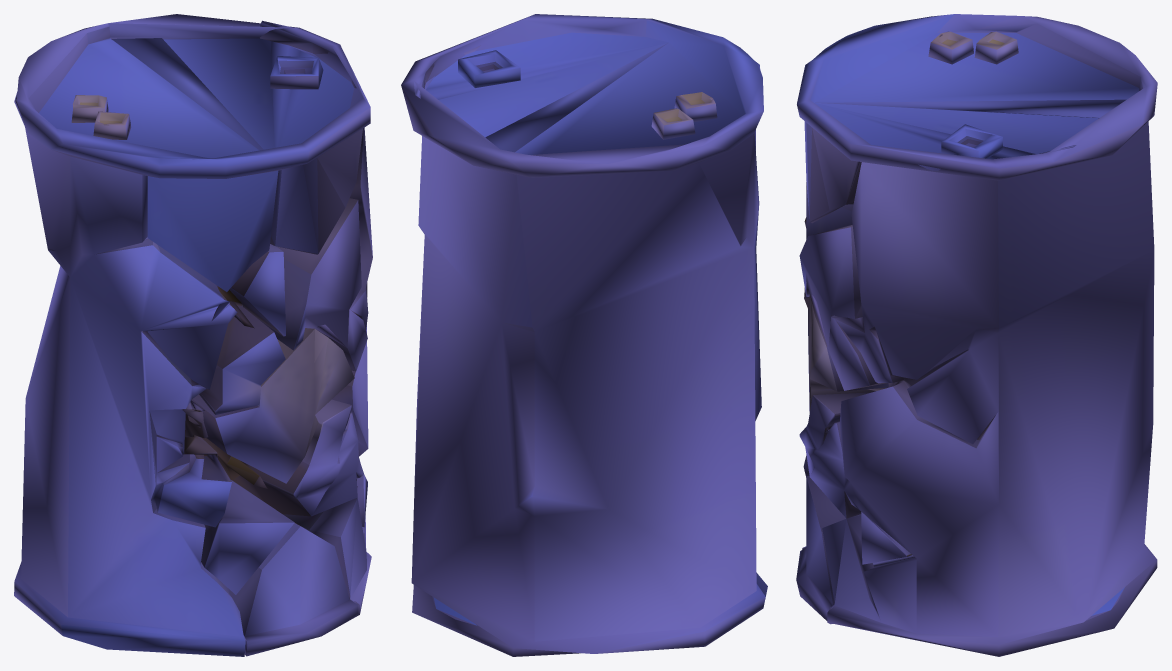
Rendered from model.progressive.glb.
3 views of the same model, side by side, from view 1: azimuth 30°, elevation 25°; view 2: azimuth 150°, elevation 25°; view 3: azimuth 270°, elevation 25° (orthographic).
Visible parts, largest first — view 1: CrushedOilBarrel3; view 2: CrushedOilBarrel3; view 3: CrushedOilBarrel3.
Boxes of the visible parts, x1=… form: CrushedOilBarrel3: x1=14, y1=14, x2=372, y2=656; CrushedOilBarrel3: x1=401, y1=14, x2=767, y2=656; CrushedOilBarrel3: x1=796, y1=14, x2=1157, y2=656.
Size of the model in its own units: 1.24 by 1.9 by 1.25.
Materials: 1 (1 with a texture image).
